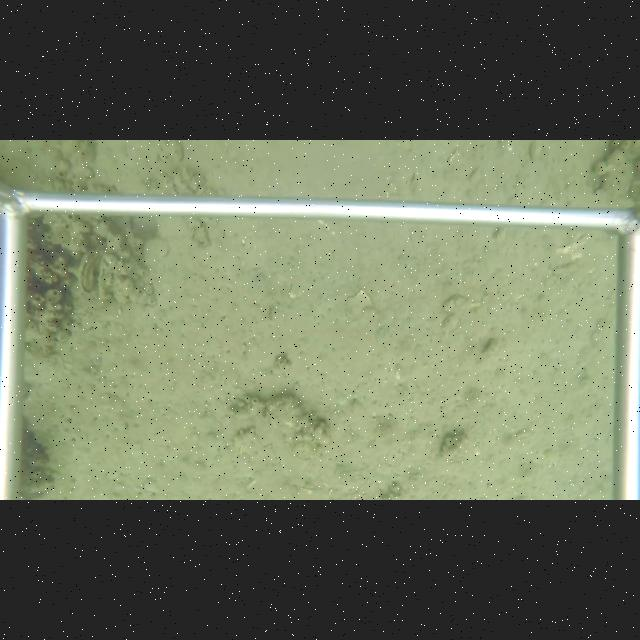Oyster-Closed: (77, 247, 98, 297)
